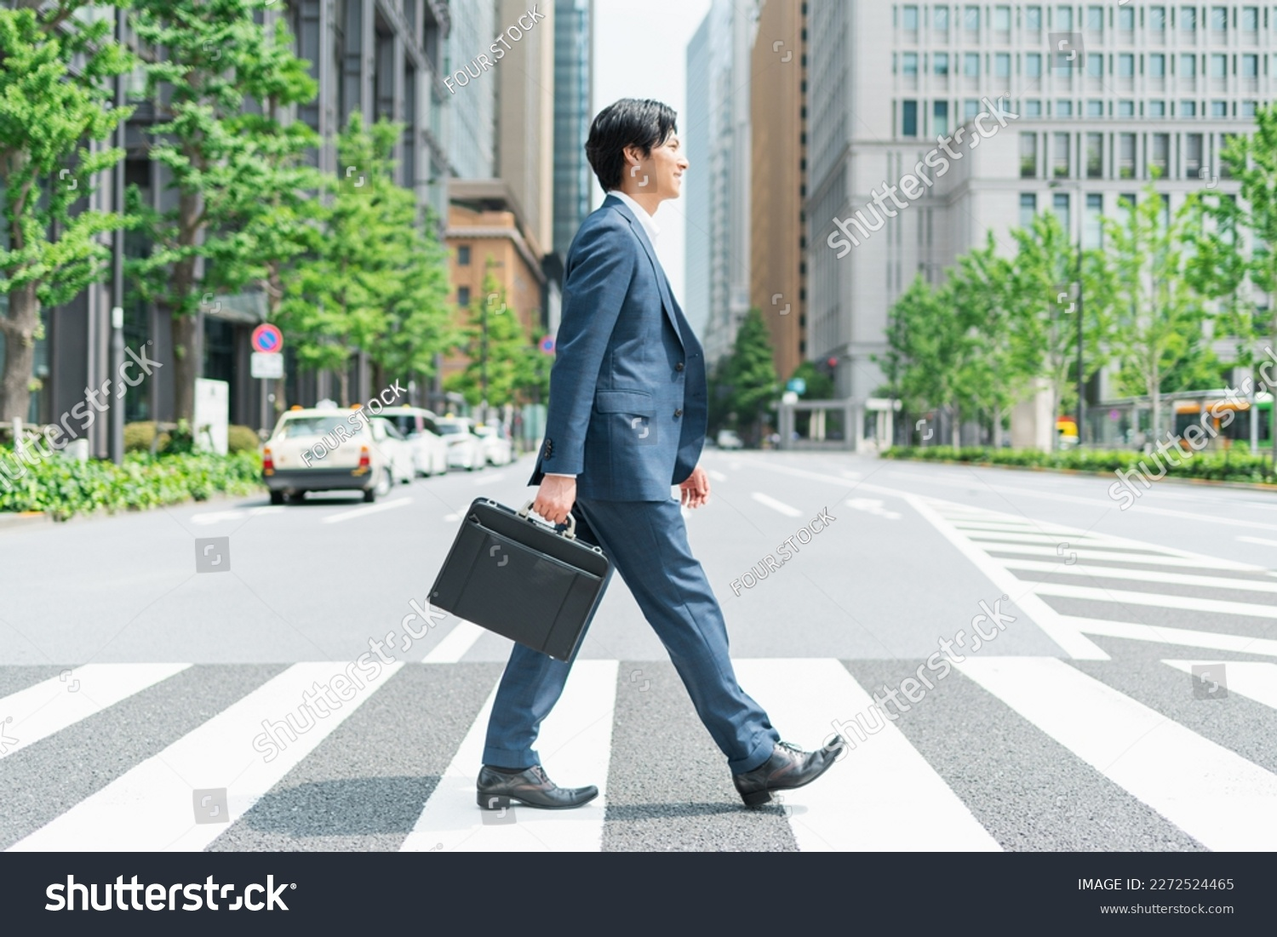Person: (439, 93, 854, 816)
